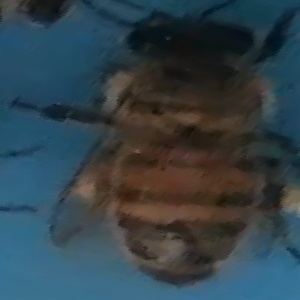bee: (72, 8, 298, 290)
